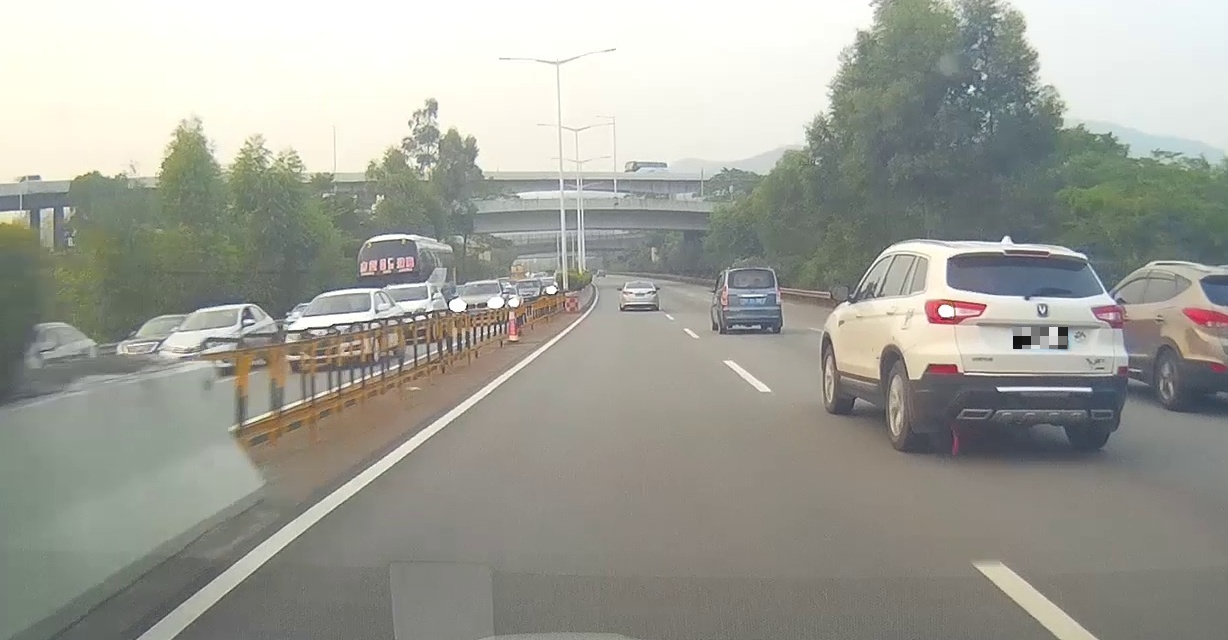L_light: (925, 299, 987, 325), (721, 286, 728, 311), (623, 291, 632, 295)
R_light: (1089, 304, 1124, 329), (775, 287, 782, 307), (647, 291, 656, 295)
T_light: (1004, 249, 1050, 257), (746, 283, 758, 287), (636, 283, 642, 285)
day-left: (922, 241, 1129, 450)
day-no: (720, 267, 783, 335), (622, 281, 659, 312)
plate_1: (1013, 327, 1068, 349)
